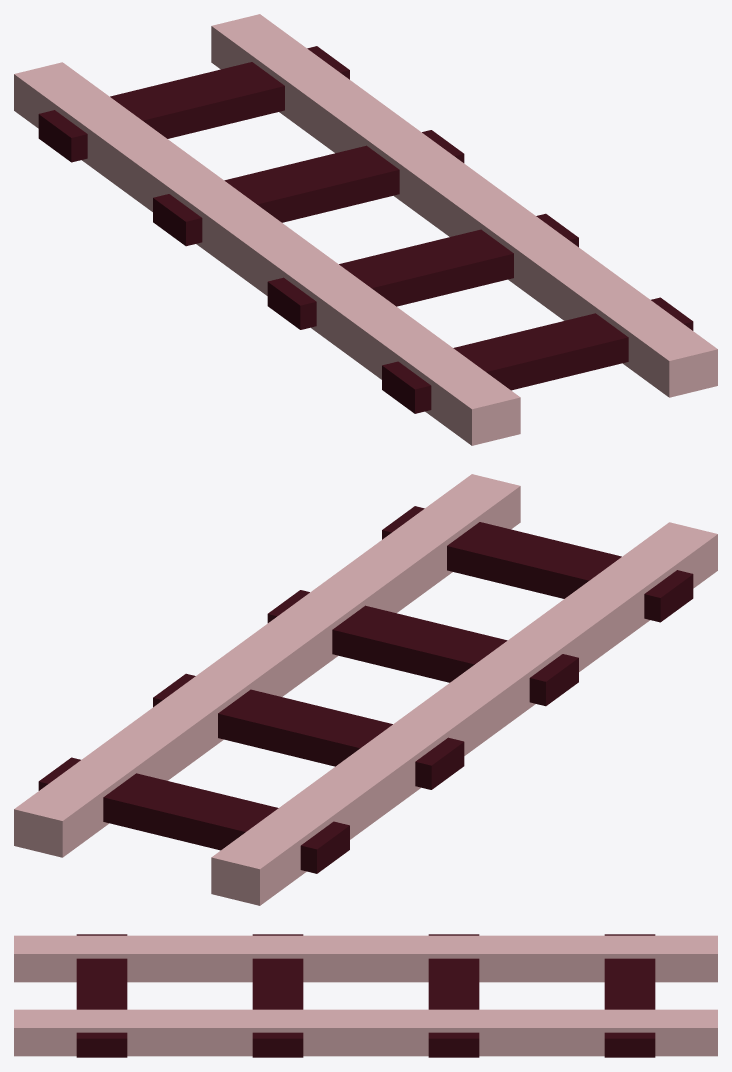
File: Track.fbx
The picture shows the model from 3 angles, top to bottom: view 1: azimuth 30°, elevation 25°; view 2: azimuth 150°, elevation 25°; view 3: azimuth 270°, elevation 25°; orthographic projection. The views are drawn at different scales.
Visible parts, largest first — view 1: Track; view 2: Track; view 3: Track.
Boxes of the visible parts, <box> form: Track: <box>14,14,717,445</box>; Track: <box>14,474,717,905</box>; Track: <box>14,934,717,1057</box>.
Bounding box in the file's own units: 200 × 25.15 × 570.
